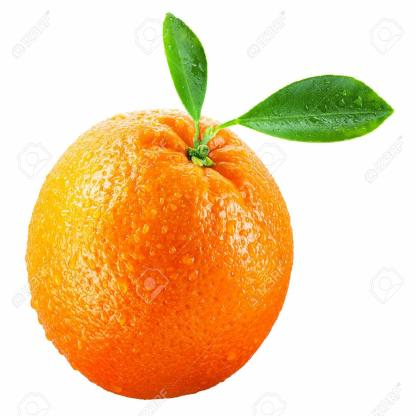orange: (21, 103, 303, 404)
